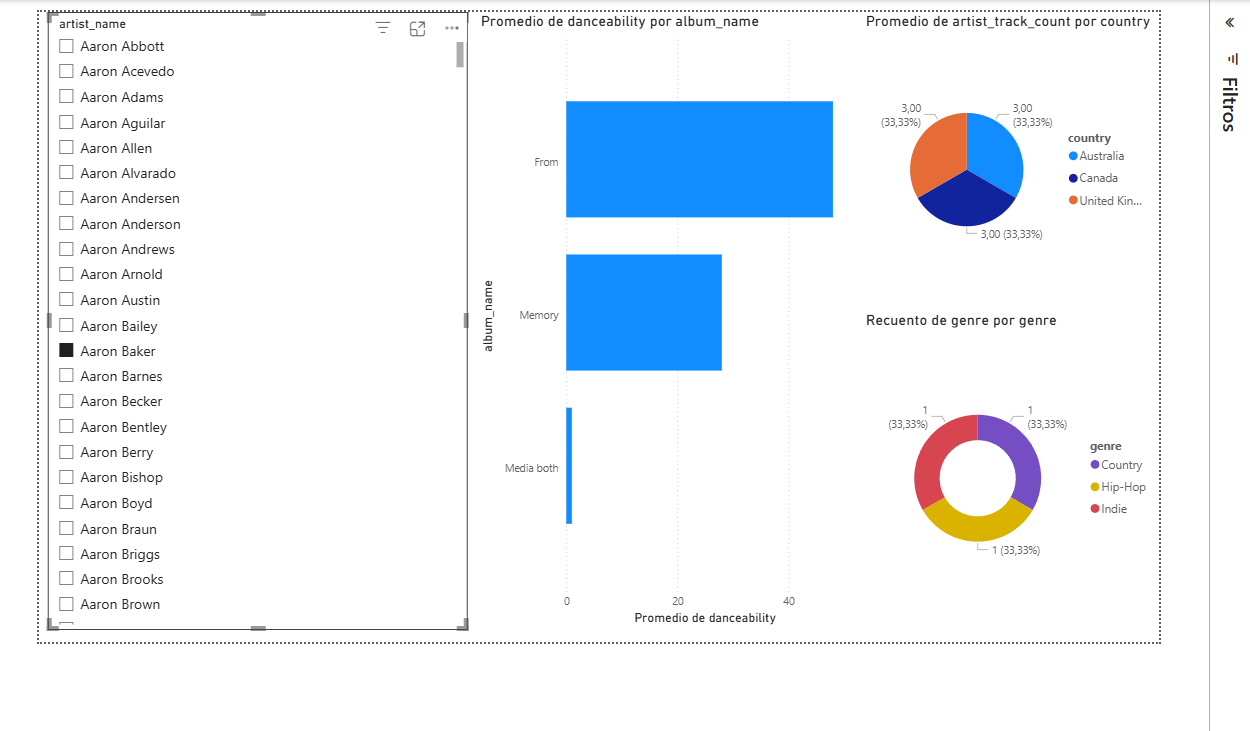

What the dashboard file says about the page in this screenshot:
{"tool":"powerbi","page":{"name":"Página 1","canvas":[1280,720],"ordinal":0},"visuals":[{"type":"slicer","fields":{"Values":["Dim_Artista.artist_name"]},"box":[9.6,0,480.3,705.3],"z":0},{"type":"clusteredBarChart","fields":{"Category":["Dim_Album.album_name"],"Y":["Avg(Fact_Tracks.danceability)"]},"box":[499.5,0,432.2,705.3],"z":1000},{"type":"pieChart","fields":{"Category":["Fact_Tracks.country"],"Y":["Avg(Fact_Tracks.artist_track_count)"]},"box":[940,0,340,341.4],"z":2000},{"type":"donutChart","fields":{"Category":["Fact_Tracks.genre"],"Y":["CountNonNull(Fact_Tracks.genre)"]},"box":[940,341,340,364],"z":2001}]}

Visuals, with their boxes on the page's 1280x720 design canvas (x1, y1, x2, y2). These are canvas units, not pixel positions in the 1250x731 screenshot, which may show the page scaled, cropped or inside an application window:
slicer - Dim_Artista.artist_name: rect(10, 0, 490, 705)
clusteredBarChart - Dim_Album.album_name x Avg(Fact_Tracks.danceability): rect(500, 0, 932, 705)
pieChart - Fact_Tracks.country x Avg(Fact_Tracks.artist_track_count): rect(940, 0, 1280, 341)
donutChart - Fact_Tracks.genre x CountNonNull(Fact_Tracks.genre): rect(940, 341, 1280, 705)
